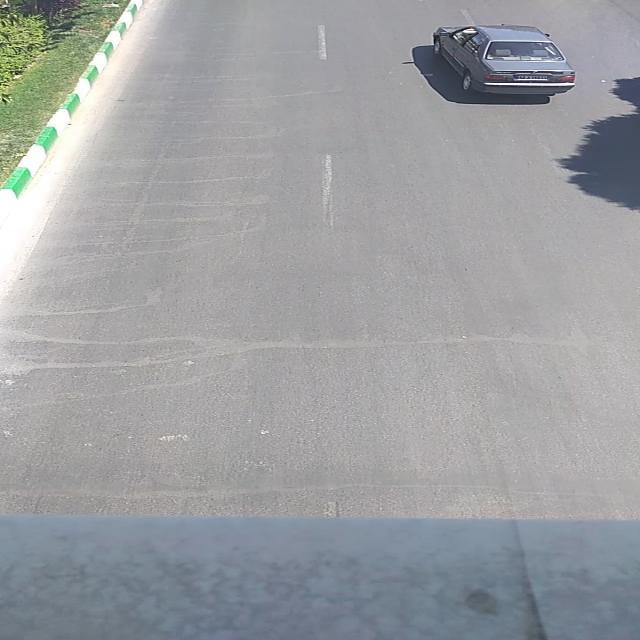car: (430, 24, 576, 94)
